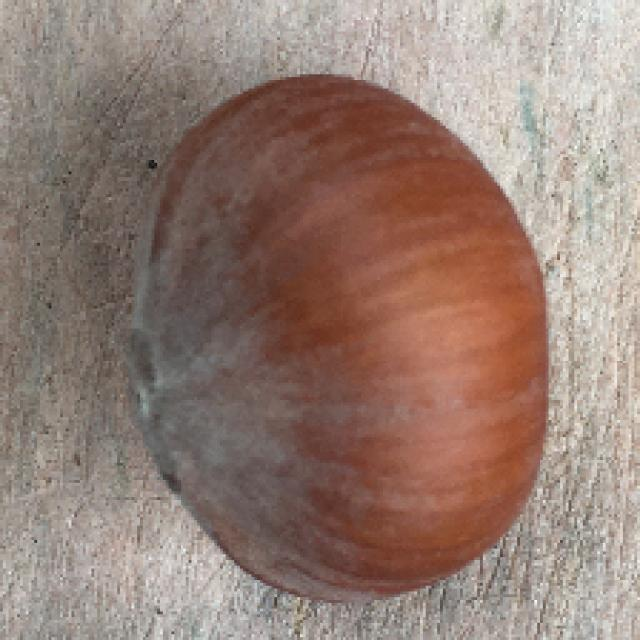qualityHazelnut: (122, 70, 550, 604)
